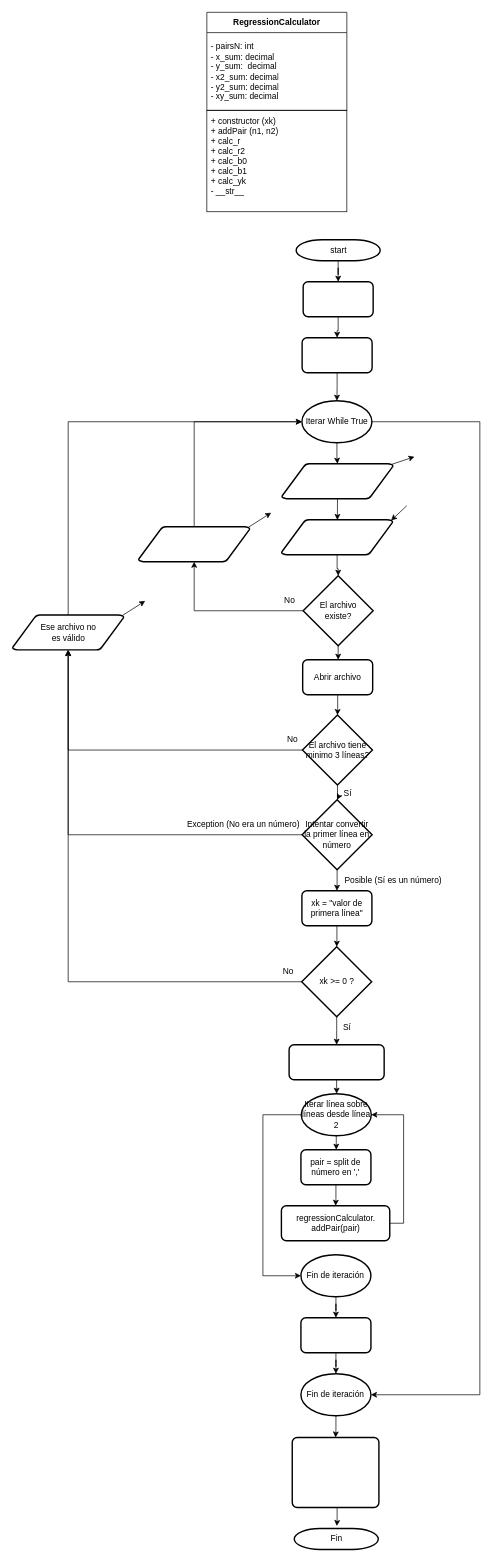
The diagram is 498 pixels wide and 1562 high, and some of its shapes have lost their labels. Here are the shapes that lost their labels. From the top down, the box of each, then its label:
(302, 281, 374, 317): archivo = ""
(301, 337, 372, 373): xk = 0
(281, 463, 393, 499): Ingrese el nombre del archivo
(137, 526, 250, 562): Ese archivo no existe
(280, 519, 393, 555): input de archivo: string
(288, 1044, 385, 1080): regressionCalculator: RegressionCalculator;
(300, 1317, 371, 1353): break
(291, 1436, 379, 1508): imprimir regressionCalculator
